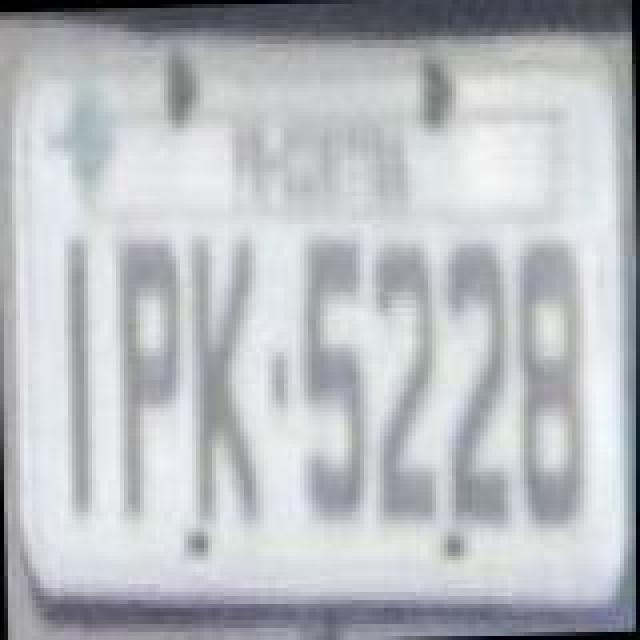1: (56, 226, 96, 526)
2: (438, 228, 514, 536), (362, 234, 438, 530)
5: (288, 228, 368, 524)
8: (514, 226, 590, 534)
K: (182, 222, 266, 530)
P: (108, 226, 188, 522)
